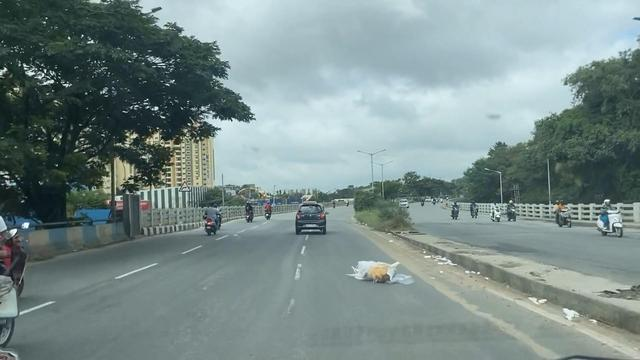LMV: (297, 203, 324, 234), (203, 203, 218, 231), (241, 201, 255, 224), (261, 200, 274, 222)
